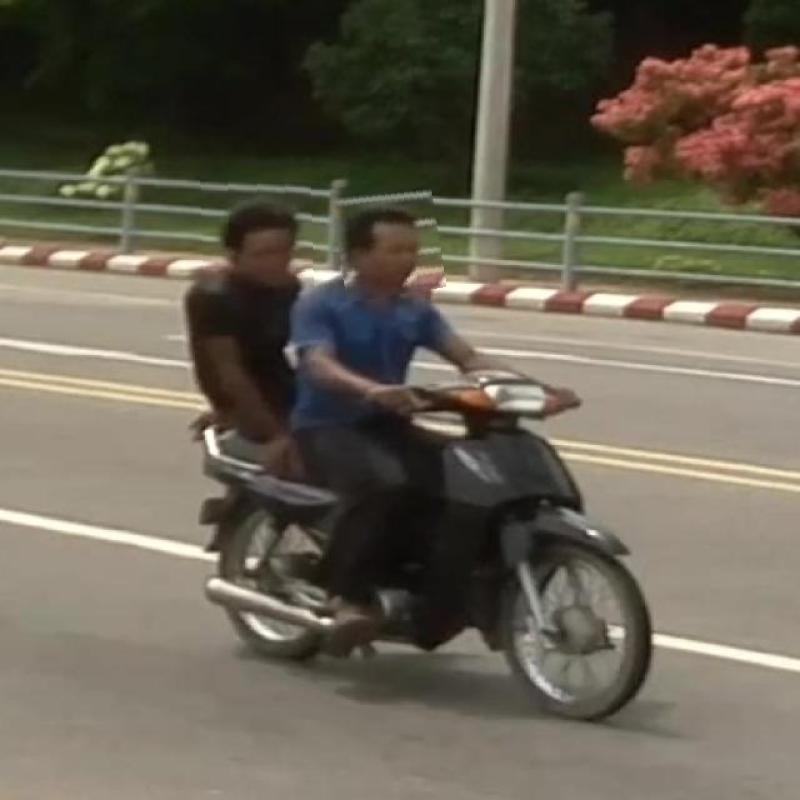nohelmet: (200, 163, 314, 295), (333, 176, 442, 298)
